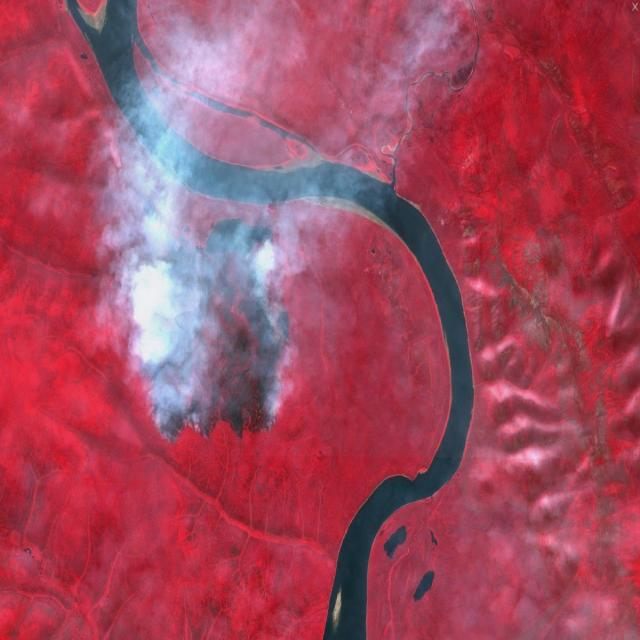fire: (134, 245, 292, 446)
